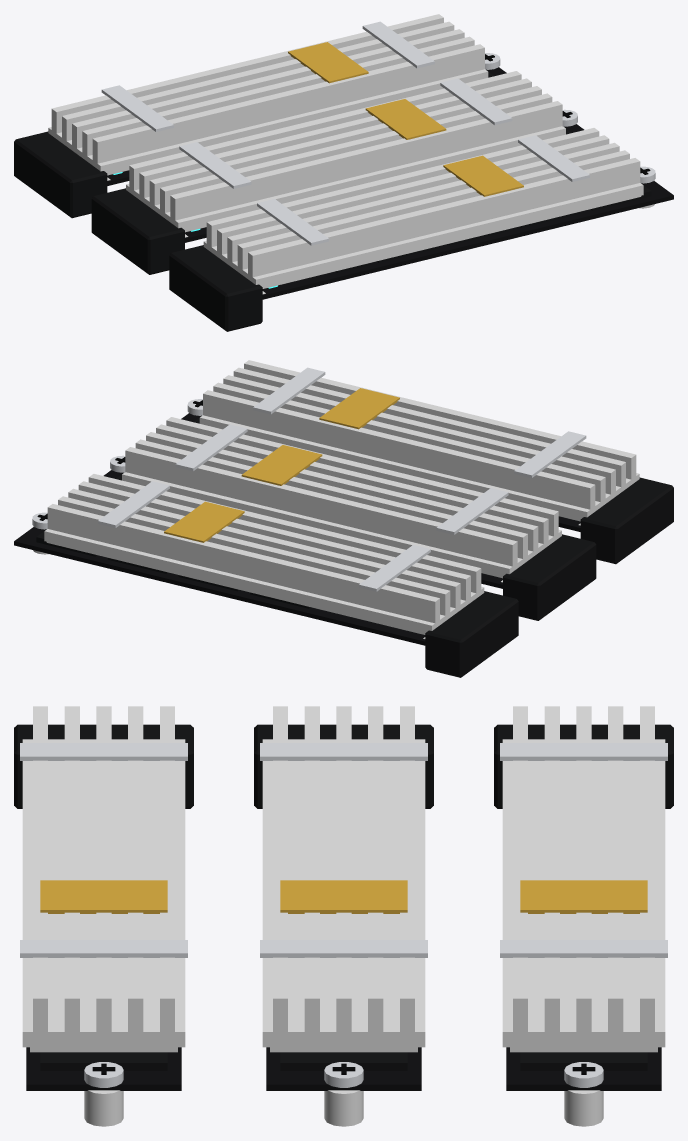
The model's file is hwm_sto_nvme5_30tb.glb.
3 views of the same model, one above another, from view 1: azimuth 30°, elevation 25°; view 2: azimuth 150°, elevation 25°; view 3: azimuth 270°, elevation 25° (orthographic). The views are drawn at different scales.
Parts seen in each view (by area): view 1: SSD_2, SSD_0, SSD_1, Slots; view 2: SSD_0, SSD_2, SSD_1, Slots; view 3: SSD_0, SSD_1, SSD_2, Slots, Screw_0, Screw_1, Screw_2.
Part boxes in pixels (x1,y1,x2,y2): SSD_2: (203, 128, 673, 299); SSD_0: (48, 14, 506, 185); SSD_1: (126, 71, 584, 242); Slots: (14, 67, 654, 331); SSD_0: (14, 474, 484, 645); SSD_2: (181, 360, 639, 531); SSD_1: (103, 417, 561, 588); Slots: (33, 413, 673, 677); SSD_0: (500, 706, 667, 1090); SSD_1: (260, 706, 427, 1090); SSD_2: (20, 706, 187, 1090); Slots: (14, 724, 673, 1126); Screw_0: (564, 1062, 603, 1087); Screw_1: (324, 1062, 363, 1087); Screw_2: (84, 1062, 123, 1087).
Bounding box in the file's own units: 0.1155 × 0.0164 × 0.0935.
